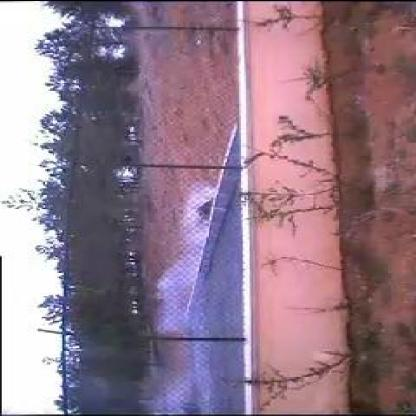-: (150, 182, 238, 376)
